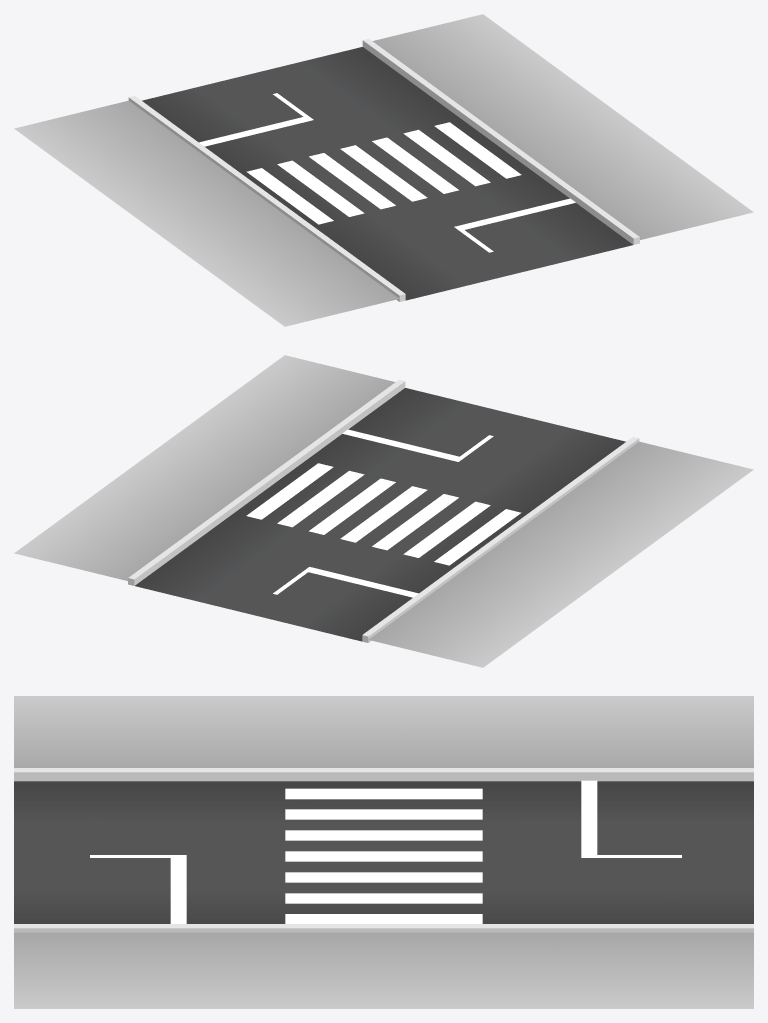
The model's file is city2-road-010.glb.
3 renders of one model, top to bottom at view 1: azimuth 30°, elevation 25°; view 2: azimuth 150°, elevation 25°; view 3: azimuth 270°, elevation 25°, orthographic. The views are drawn at different scales.
Parts seen in each view (by area): view 1: road_010; view 2: road_010; view 3: road_010.
Part boxes in pixels (<box>): road_010: <box>14,14,753,326</box>; road_010: <box>14,355,753,667</box>; road_010: <box>14,696,753,1008</box>.
Size of the model in its own units: 15 by 0.2 by 15.
Materials: 1 (1 with a texture image).
